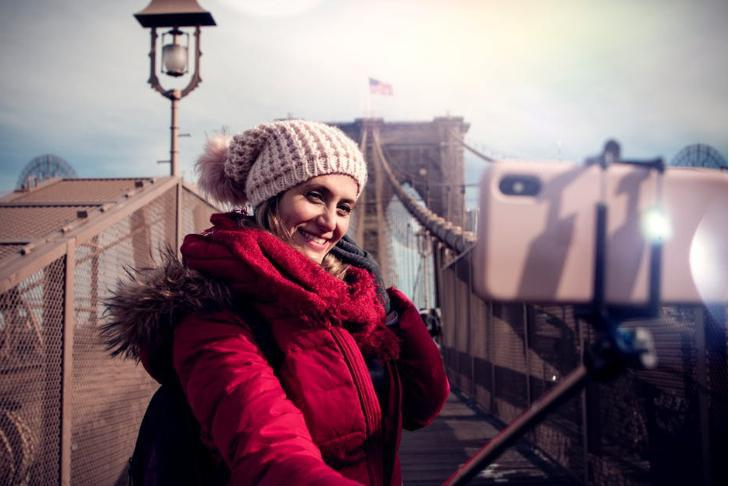face: (280, 173, 359, 264)
